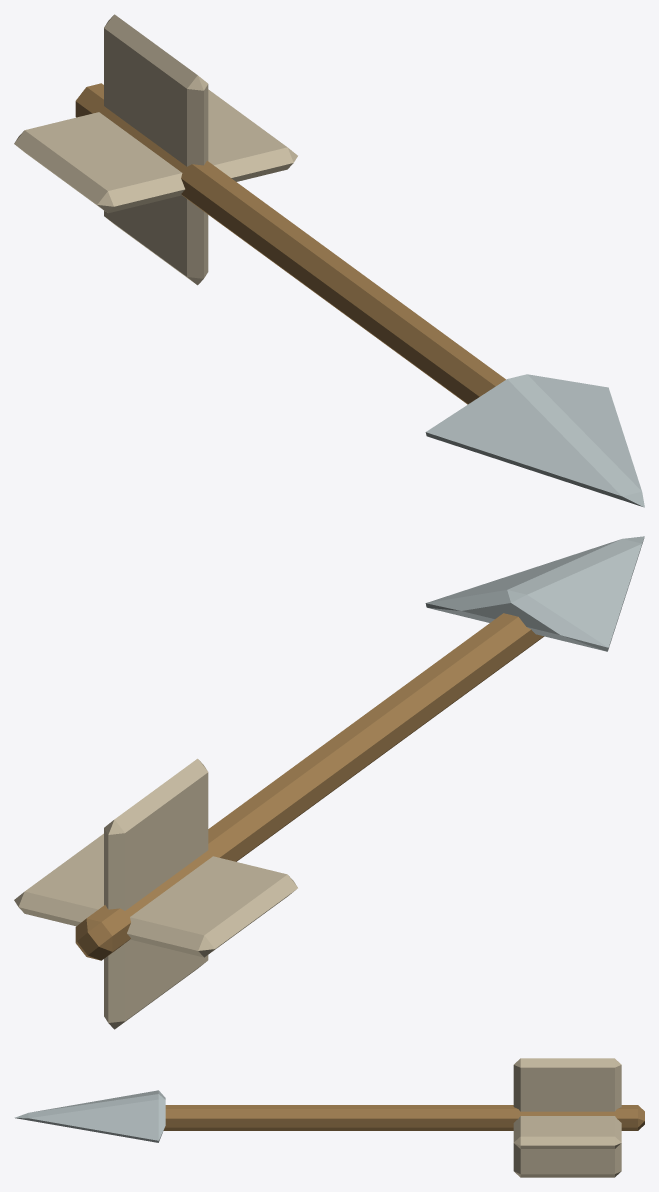
File: arrow.glb
3 renders of one model, top to bottom at view 1: azimuth 30°, elevation 25°; view 2: azimuth 150°, elevation 25°; view 3: azimuth 270°, elevation 25°, orthographic. The views are drawn at different scales.
Visible parts, largest first — view 1: projectile; view 2: projectile; view 3: projectile.
Part boxes in pixels (x1=…): projectile: x1=14, y1=14, x2=644, y2=507; projectile: x1=14, y1=536, x2=644, y2=1029; projectile: x1=14, y1=1058, x2=644, y2=1177.
Bounding box in the file's own units: 0.17 × 0.17 × 0.8162.
